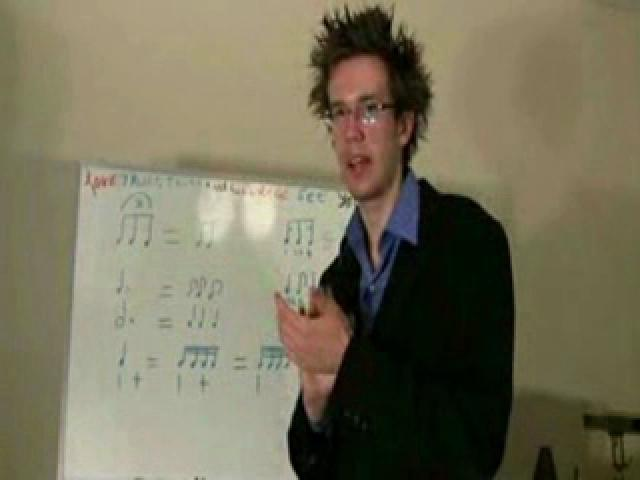F: (274, 3, 519, 478)
